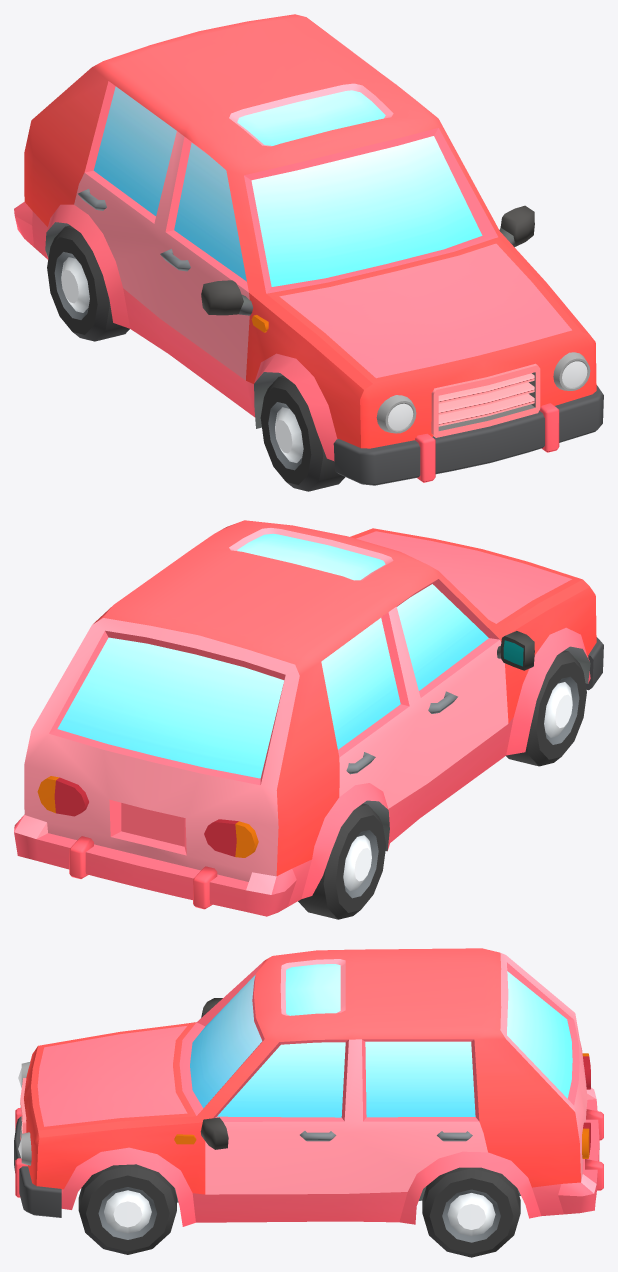
File: city2-car-12.glb
3 views of the same model, one above another, from view 1: azimuth 30°, elevation 25°; view 2: azimuth 150°, elevation 25°; view 3: azimuth 270°, elevation 25° (orthographic). The views are drawn at different scales.
Visible parts, largest first — view 1: Car_12, Wheel_013, Wheel_014; view 2: Car_12, Wheel_014, Wheel_013; view 3: Car_12, Wheel_016, Wheel_015.
Part boxes in pixels (bbox=[...]): Car_12: bbox=[14, 14, 603, 485]; Wheel_013: bbox=[260, 375, 345, 491]; Wheel_014: bbox=[47, 225, 129, 341]; Car_12: bbox=[14, 520, 603, 916]; Wheel_014: bbox=[298, 803, 386, 919]; Wheel_013: bbox=[506, 650, 586, 766]; Car_12: bbox=[14, 948, 603, 1226]; Wheel_016: bbox=[422, 1167, 520, 1257]; Wheel_015: bbox=[78, 1164, 176, 1254].
Size of the model in its own units: 2.43 by 1.88 by 4.57.
2 materials, 2 textured.
